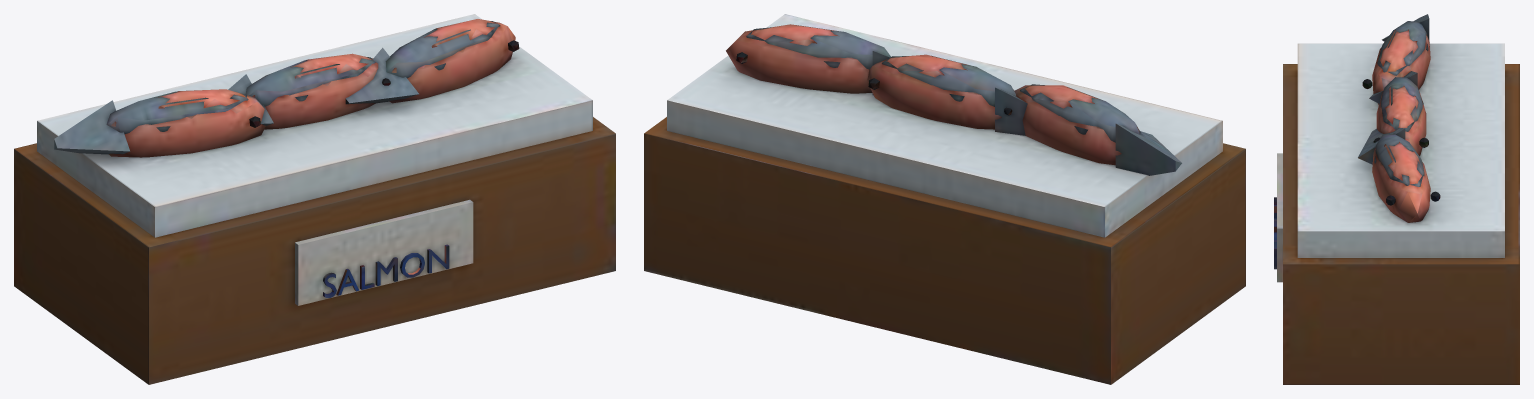
File: cajon_hielo.glb
3 renders of one model, left to right at view 1: azimuth 30°, elevation 25°; view 2: azimuth 150°, elevation 25°; view 3: azimuth 270°, elevation 25°, orthographic. The views are drawn at different scales.
Parts seen in each view (by area): view 1: cajon_hielo; view 2: cajon_hielo; view 3: cajon_hielo.
Boxes of the visible parts, x1,y1,x2,y2 form: cajon_hielo: (14,14,615,384); cajon_hielo: (644,14,1245,384); cajon_hielo: (1274,14,1519,384).
Bounding box in the file's own units: 1.65 × 0.7155 × 0.83.
1 material, 1 textured.
